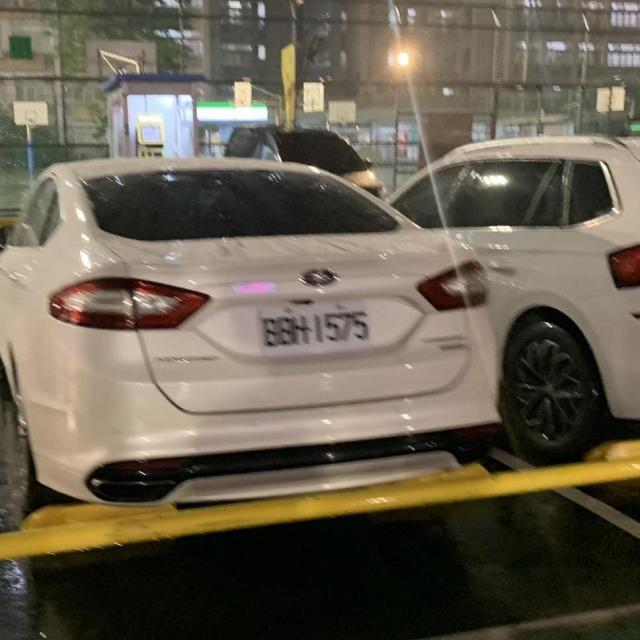W: (256, 298, 376, 358)
